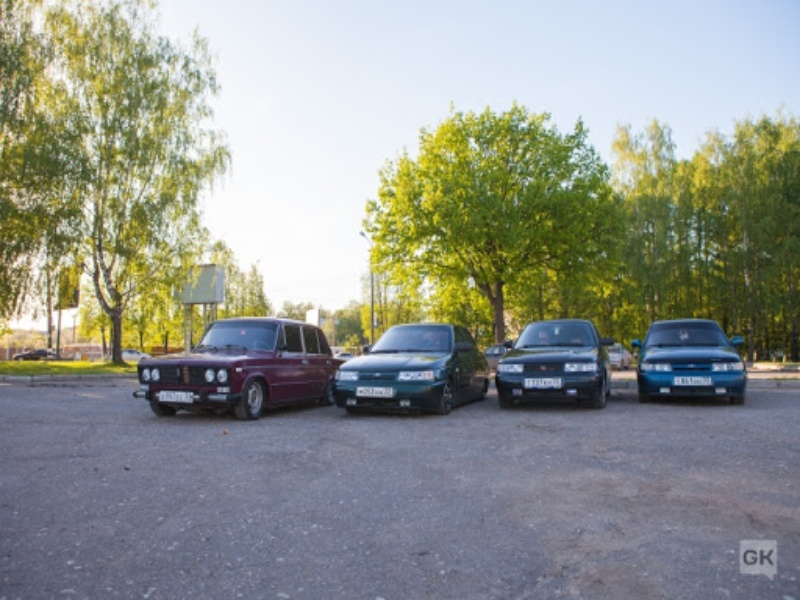car: (131, 317, 346, 419), (336, 323, 490, 415), (497, 320, 614, 407), (631, 318, 745, 406)
plate: (159, 390, 192, 402), (525, 378, 562, 388), (358, 387, 392, 397), (675, 377, 710, 386)
